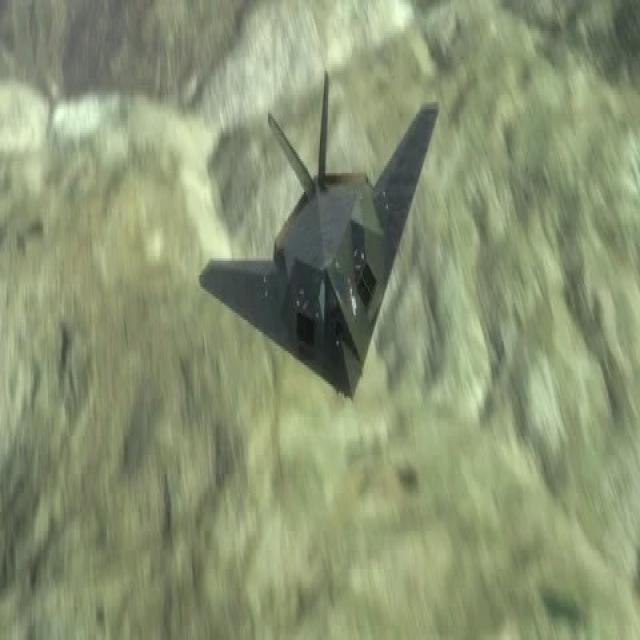F117: (178, 34, 459, 426)
